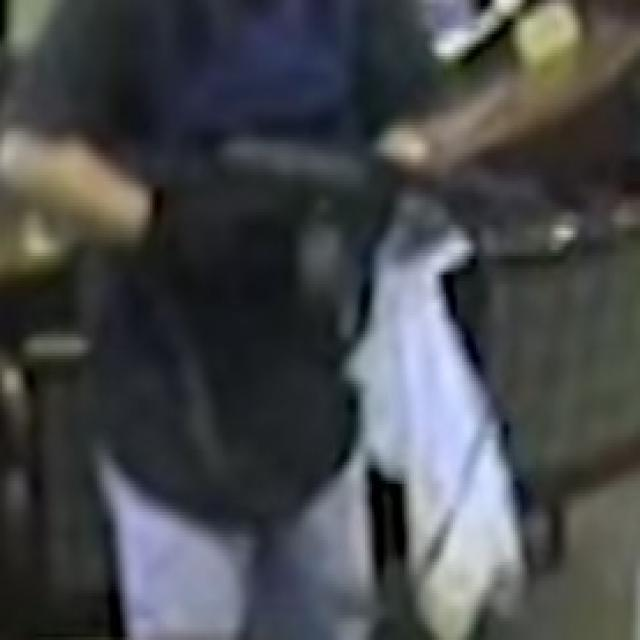weapon: (178, 112, 626, 335)
